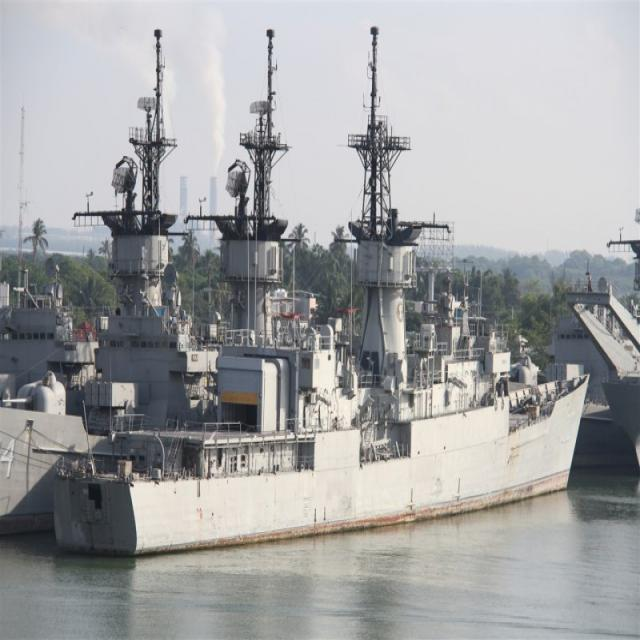Fragata: (43, 19, 599, 563)
